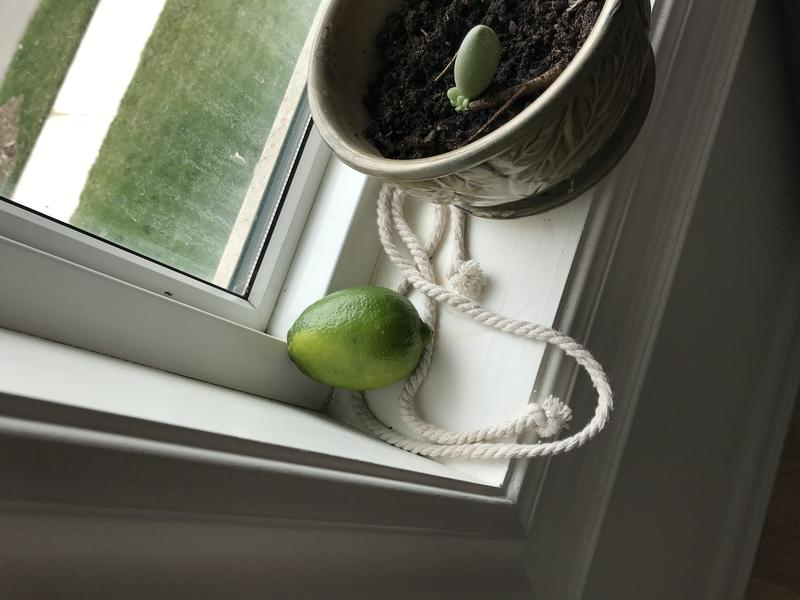lime: (275, 282, 445, 404)
